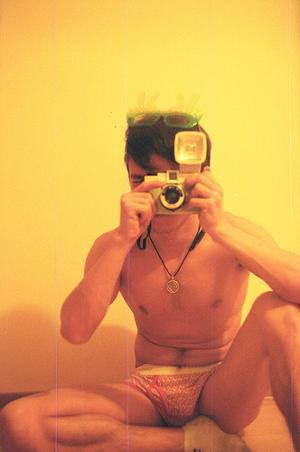person: (2, 104, 299, 450)
